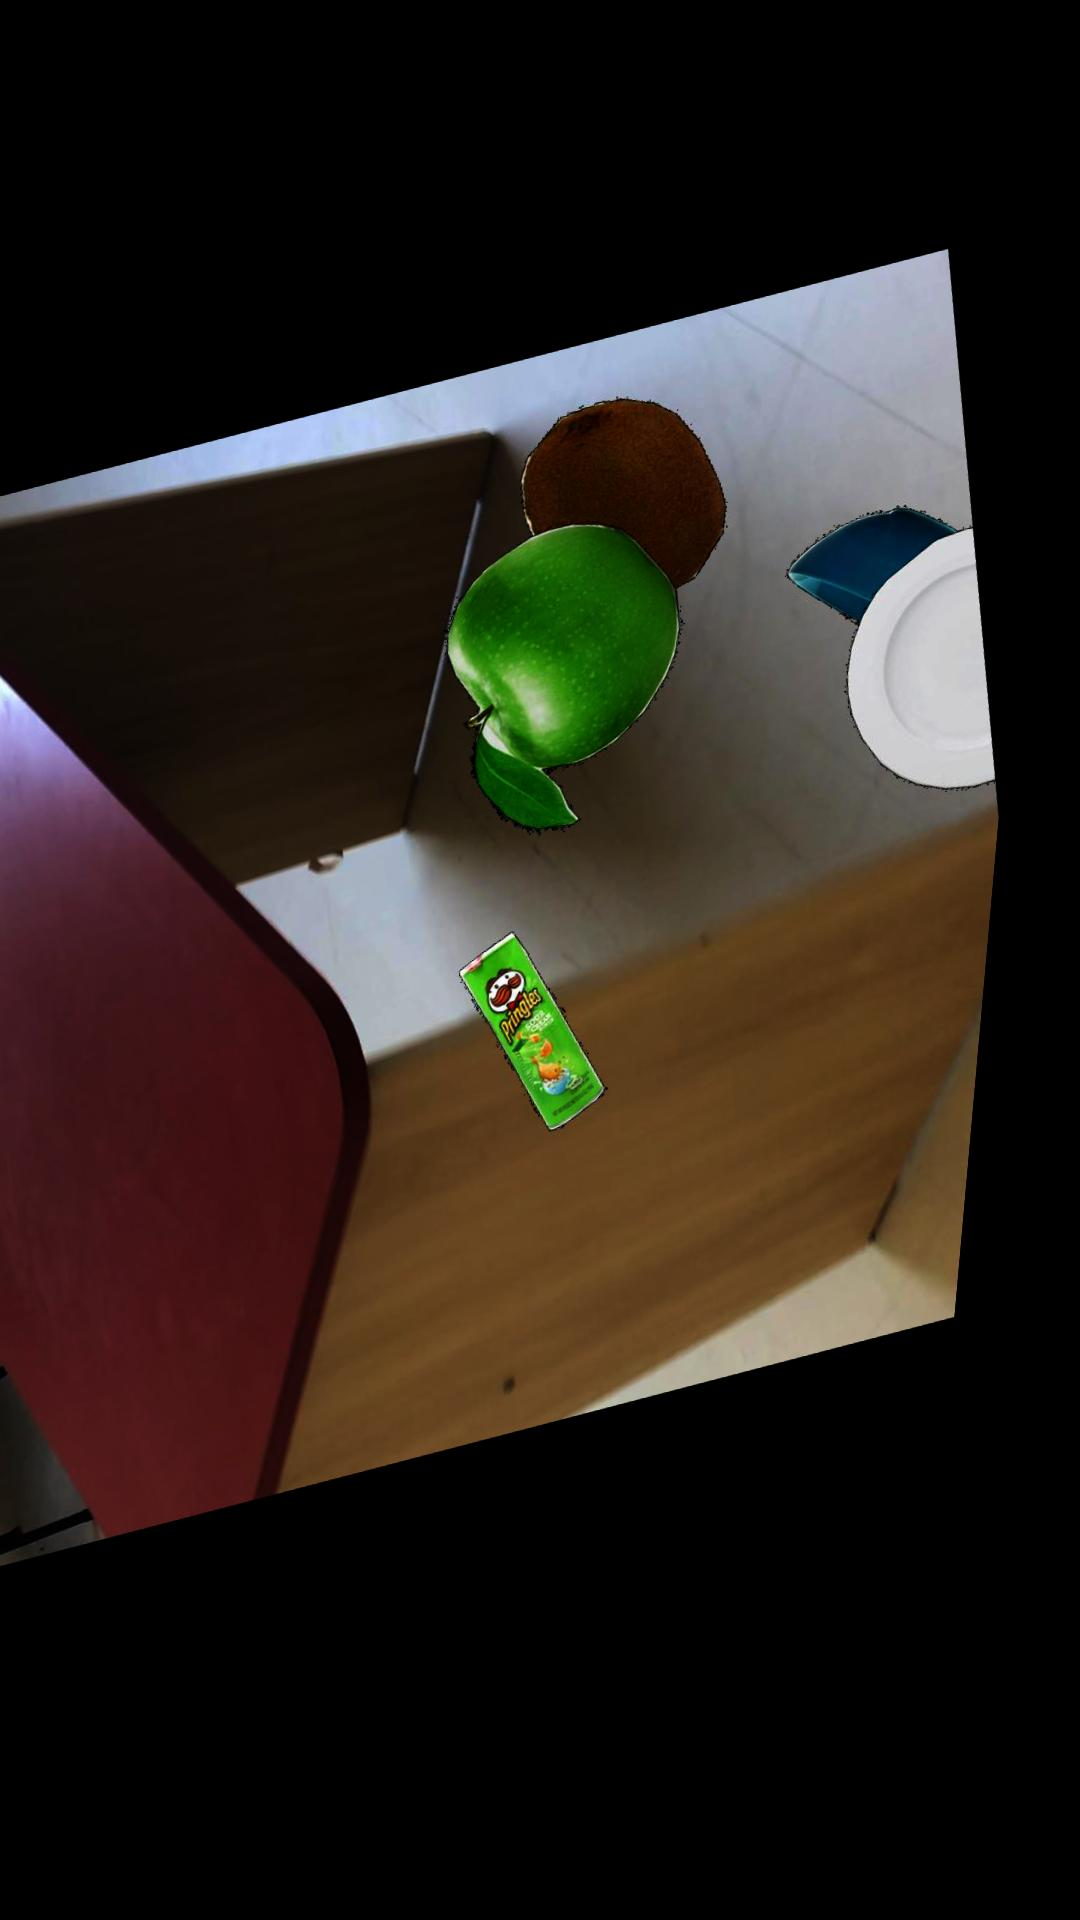bowl: (798, 526, 968, 640)
green apple: (458, 535, 692, 844)
kiwi: (529, 411, 736, 603)
plate: (860, 547, 1013, 810)
pringles: (477, 944, 625, 1145)
